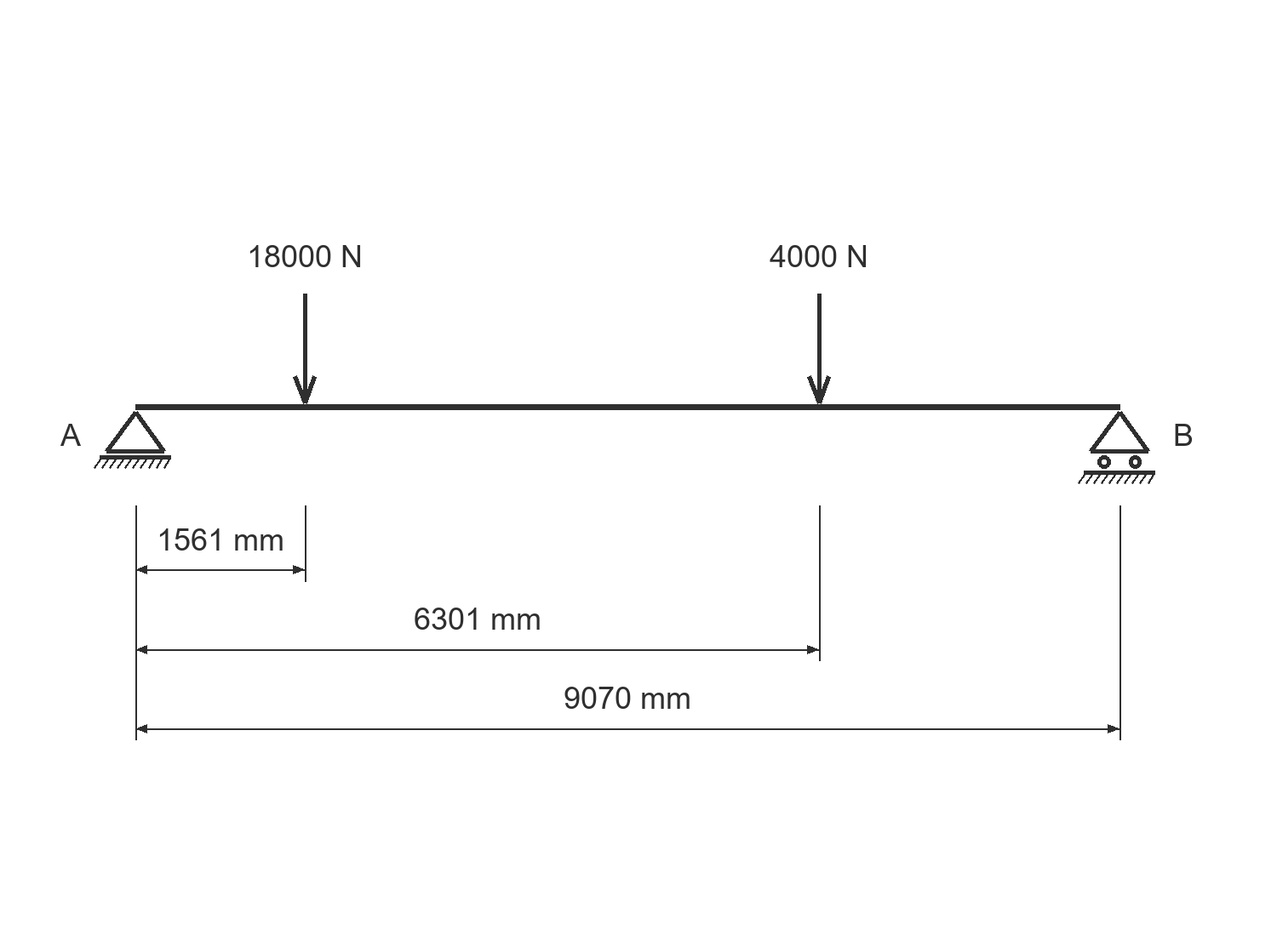pin_support: (94, 411, 171, 469)
point_load: (293, 294, 317, 404), (807, 294, 831, 404)
roller_support: (1078, 411, 1155, 484)
